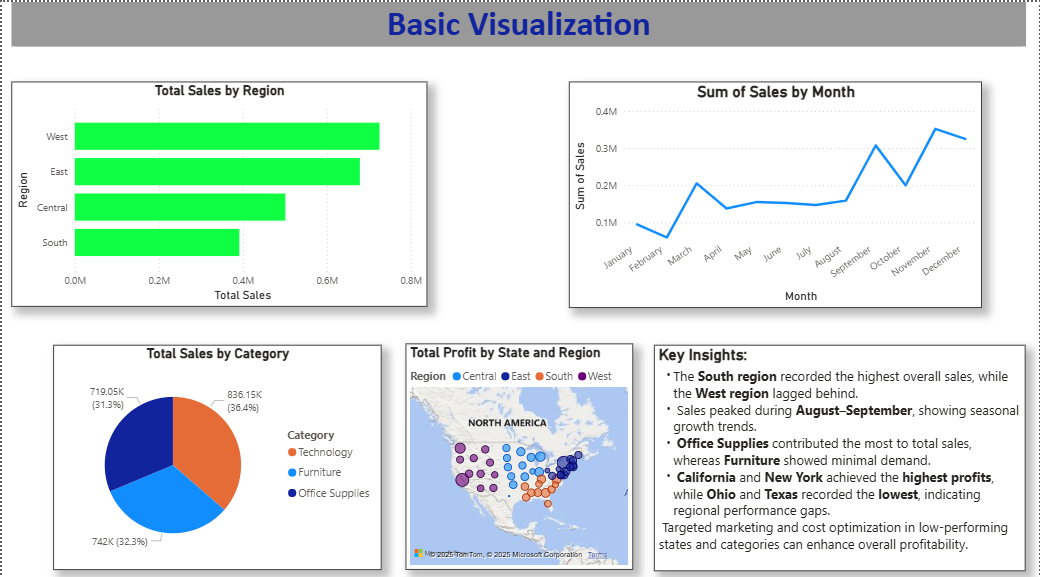

The dashboard page shown, as its layout file describes it:
{"tool":"powerbi","page":{"name":"Basic visualization","canvas":[1280,720],"ordinal":0},"visuals":[{"type":"map","fields":{"Category":["Orders.State"],"Size":["Orders.Total Profit"],"Series":["Orders.Region"]},"box":[499.1,421.1,280.7,279.2],"z":1000},{"type":"clusteredBarChart","fields":{"Category":["Orders.Region"],"Y":["Orders.Total Sales"]},"box":[10.9,98.3,513.1,277.6],"z":1001},{"type":"lineChart","fields":{"Y":["Sum(Orders.Sales)"],"Category":["Orders.Order Date.Variation.Date Hierarchy.Month"]},"box":[700.3,98.3,510,279.2],"z":1002},{"type":"pieChart","fields":{"Category":["Orders.Category"],"Y":["Orders.Total Sales"]},"box":[63.9,422.6,405.5,277.6],"z":1003},{"type":"textbox","title":"Key Insights:","box":[804.7,422.6,458.5,279.2],"z":1004},{"type":"textbox","title":"Basic Visualization","box":[10.9,0,1252.3,54.6],"z":1005}]}

Visuals, with their boxes in screenshot pixels (x1, y1, x2, y2), scaled from the page's 1280x720 canvas onto the 1040x577 screenshot:
map - Orders.State x Orders.Total Profit: BBox(406, 337, 634, 561)
clusteredBarChart - Orders.Region x Orders.Total Sales: BBox(9, 79, 426, 301)
lineChart - Sum(Orders.Sales) x Orders.Order Date.Variation.Date Hierarchy.Month: BBox(569, 79, 983, 303)
pieChart - Orders.Category x Orders.Total Sales: BBox(52, 339, 381, 561)
"Key Insights:" textbox: BBox(654, 339, 1026, 562)
"Basic Visualization" textbox: BBox(9, 0, 1026, 44)
